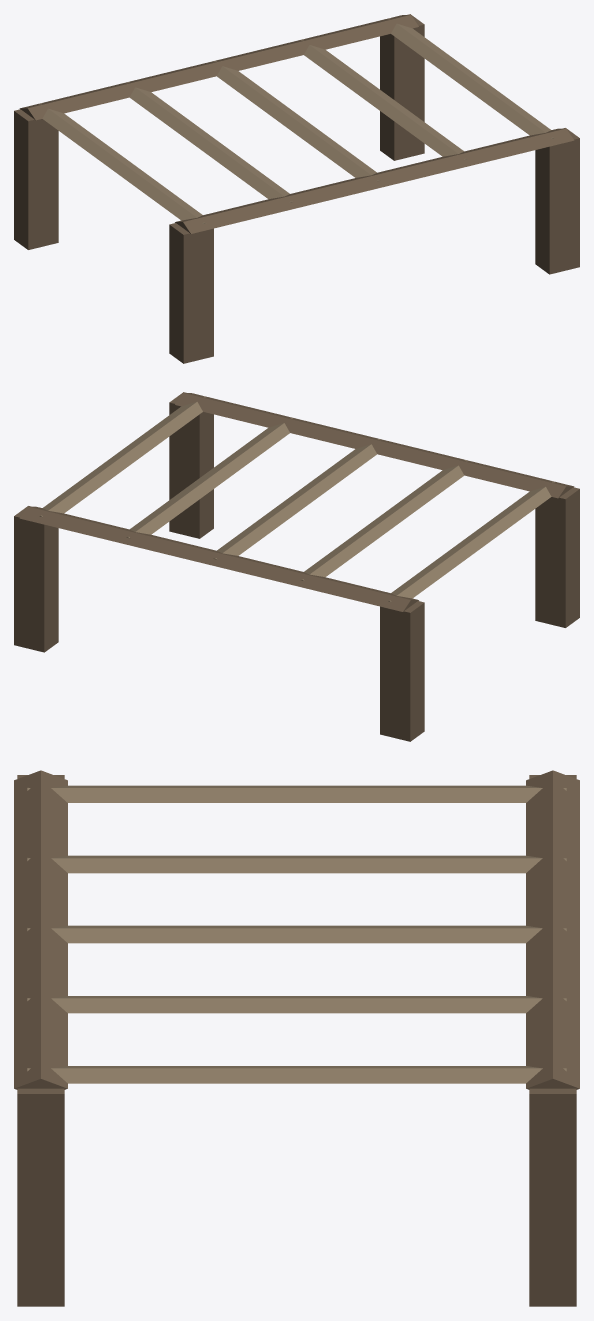
The model's file is playground_frame.glb.
The picture shows the model from 3 angles, top to bottom: view 1: azimuth 30°, elevation 25°; view 2: azimuth 150°, elevation 25°; view 3: azimuth 270°, elevation 25°; orthographic projection. The views are drawn at different scales.
Visible parts, largest first — view 1: playground_frame; view 2: playground_frame; view 3: playground_frame.
Part boxes in pixels (box(x1,y1,x2,y2)): playground_frame: box(14, 14, 579, 363); playground_frame: box(14, 392, 579, 741); playground_frame: box(14, 770, 579, 1306).
Size of the model in its own units: 3.84 by 1.25 by 2.88.
